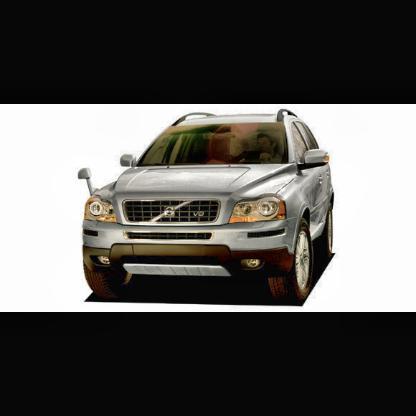Volvo XC90 SUV 2007: (78, 110, 334, 296)
